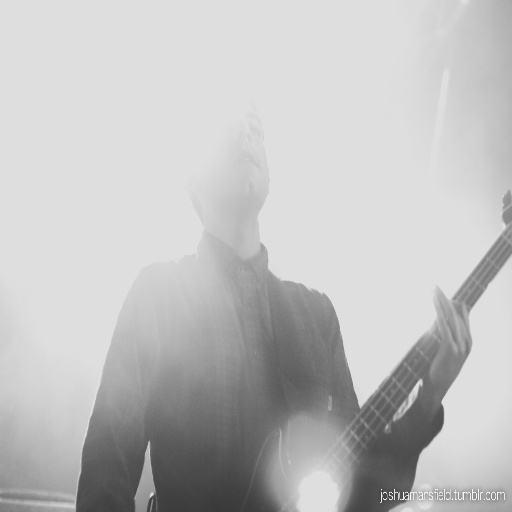hand: (425, 255, 484, 408)
